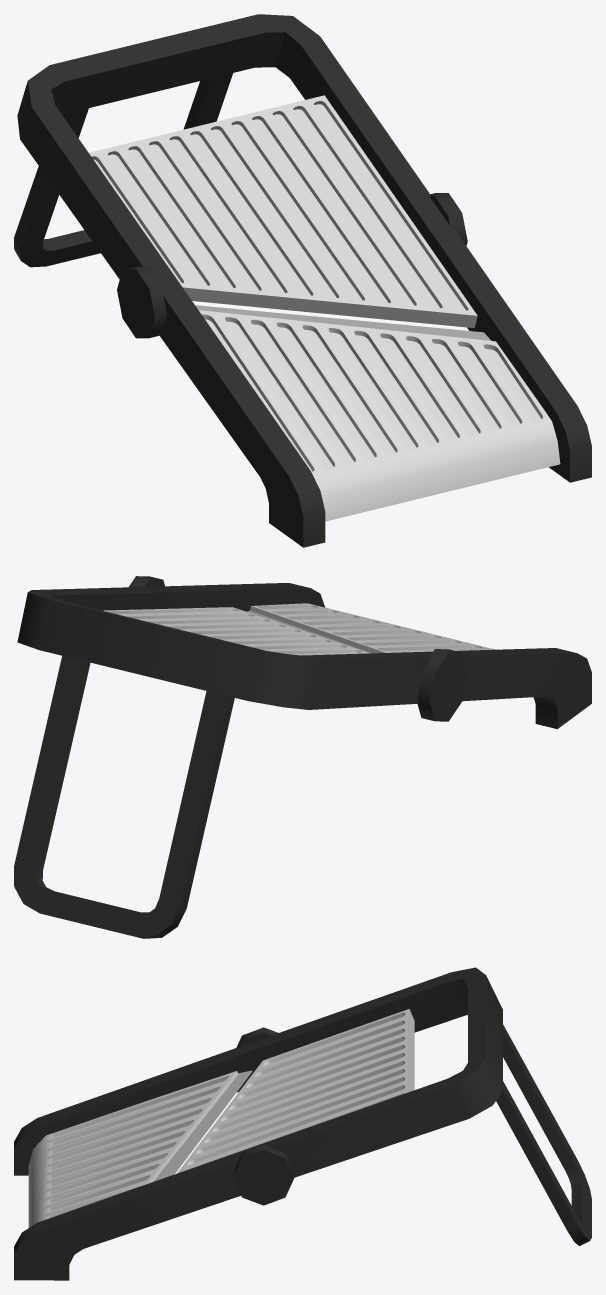
Rendered from MandolineSlicer_01.fbx.
3 views of the same model, one above another, from view 1: azimuth 30°, elevation 25°; view 2: azimuth 150°, elevation 25°; view 3: azimuth 270°, elevation 25° (orthographic). The views are drawn at different scales.
Visible parts, largest first — view 1: MandolineSlicer_01; view 2: MandolineSlicer_01; view 3: MandolineSlicer_01.
Part boxes in pixels (left/top/right/bottom): MandolineSlicer_01: left=14, top=14, right=591, bottom=547; MandolineSlicer_01: left=14, top=576, right=591, bottom=938; MandolineSlicer_01: left=14, top=967, right=591, bottom=1280.
Bounding box in the file's own units: 0.1542 × 0.1217 × 0.307.
